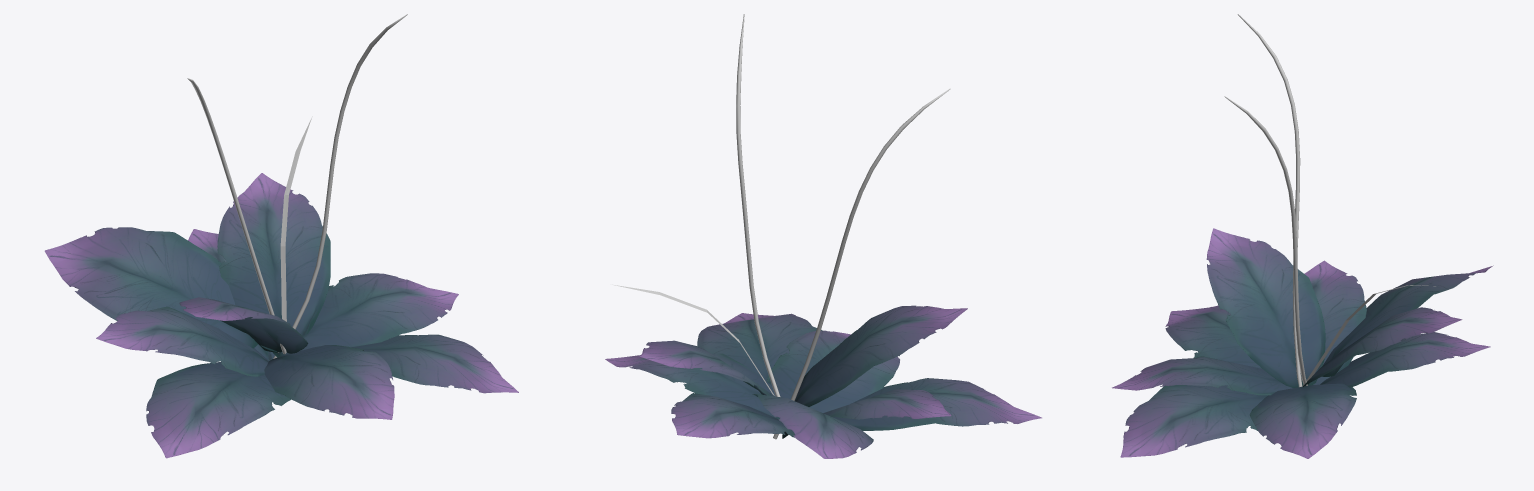
Rendered from Plant1.fbx.
3 renders of one model, left to right at view 1: azimuth 30°, elevation 25°; view 2: azimuth 150°, elevation 25°; view 3: azimuth 270°, elevation 25°, orthographic. The views are drawn at different scales.
Visible parts, largest first — view 1: Plant1; view 2: Plant1; view 3: Plant1.
Boxes of the visible parts, left/top/right/bottom form: Plant1: left=44, top=14, right=518, bottom=458; Plant1: left=605, top=14, right=1041, bottom=458; Plant1: left=1112, top=14, right=1493, bottom=458.
Bounding box in the file's own units: 426 × 392 × 410.
